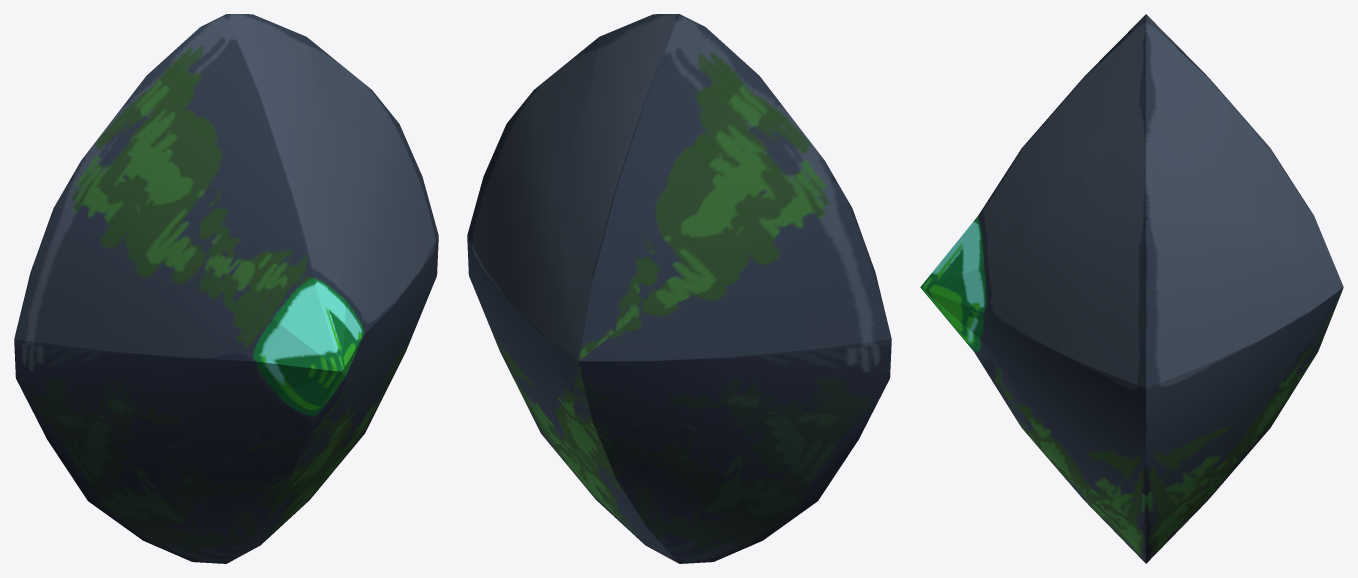
The model's file is Fragment_Pieces.fbx.
3 views of the same model, side by side, from view 1: azimuth 30°, elevation 25°; view 2: azimuth 150°, elevation 25°; view 3: azimuth 270°, elevation 25° (orthographic). The views are drawn at different scales.
Parts seen in each view (by area): view 1: Fragment_1, Fragment_3, Fragment_2; view 2: Fragment_1, Fragment_3, Fragment_2; view 3: Fragment_2, Fragment_1, Fragment_3.
Boxes of the visible parts, box(x1,y1,x2,y2) form: Fragment_1: box(27, 14, 349, 360); Fragment_3: box(14, 286, 351, 563); Fragment_2: box(308, 38, 438, 478); Fragment_1: box(557, 14, 878, 353); Fragment_3: box(554, 286, 891, 563); Fragment_2: box(467, 38, 597, 478); Fragment_2: box(927, 102, 1339, 546); Fragment_1: box(927, 14, 1339, 278); Fragment_3: box(920, 279, 1343, 563).
Bounding box in the file's own units: 0.2546 × 0.3151 × 0.225.
Materials: 1 (1 with a texture image).
